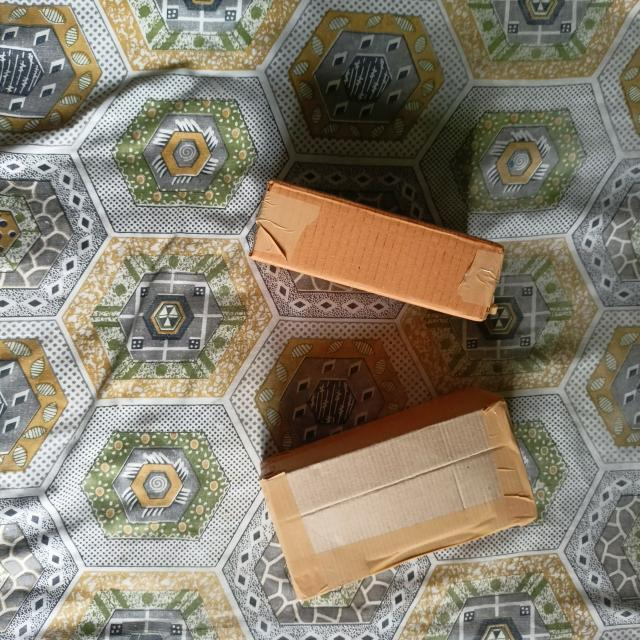box: (259, 401, 540, 604), (253, 181, 507, 320)
